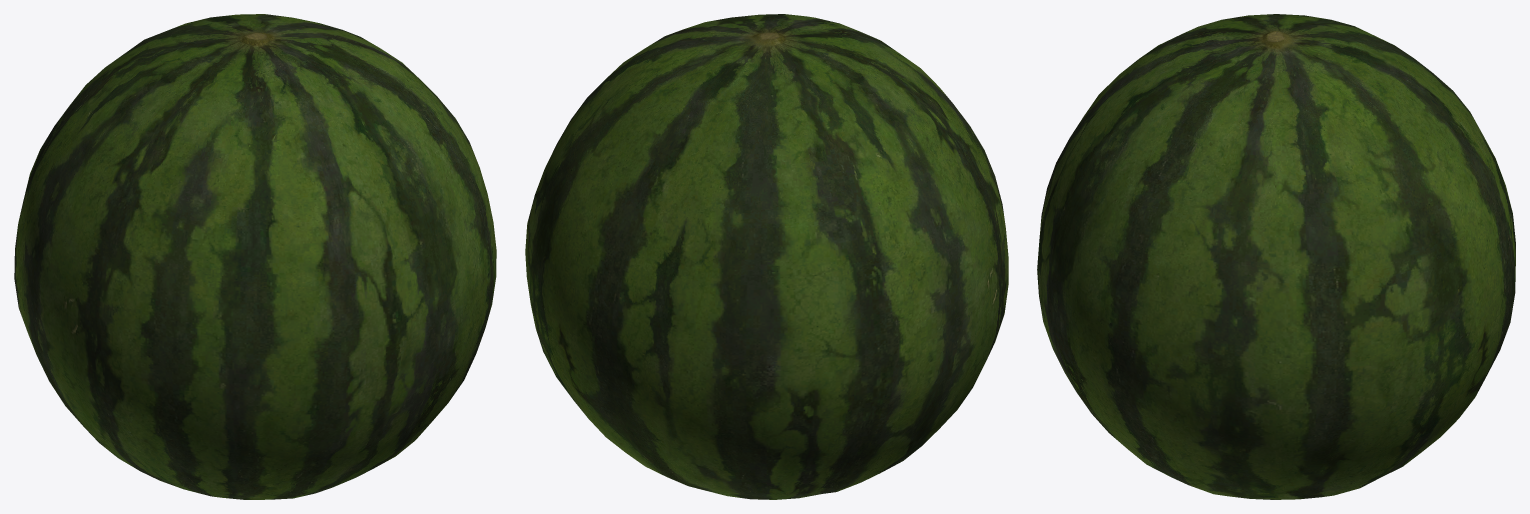
Rendered from Phiras.glb.
3 views of the same model, side by side, from view 1: azimuth 30°, elevation 25°; view 2: azimuth 150°, elevation 25°; view 3: azimuth 270°, elevation 25° (orthographic).
Visible parts, largest first — view 1: Phiras; view 2: Phiras; view 3: Phiras.
Boxes of the visible parts, left/top/right/bottom form: Phiras: left=14, top=14, right=496, bottom=499; Phiras: left=525, top=14, right=1008, bottom=499; Phiras: left=1037, top=14, right=1515, bottom=499.
Size of the model in its own units: 0.7049 by 0.7045 by 0.6954.
Materials: 1 (1 with a texture image).
